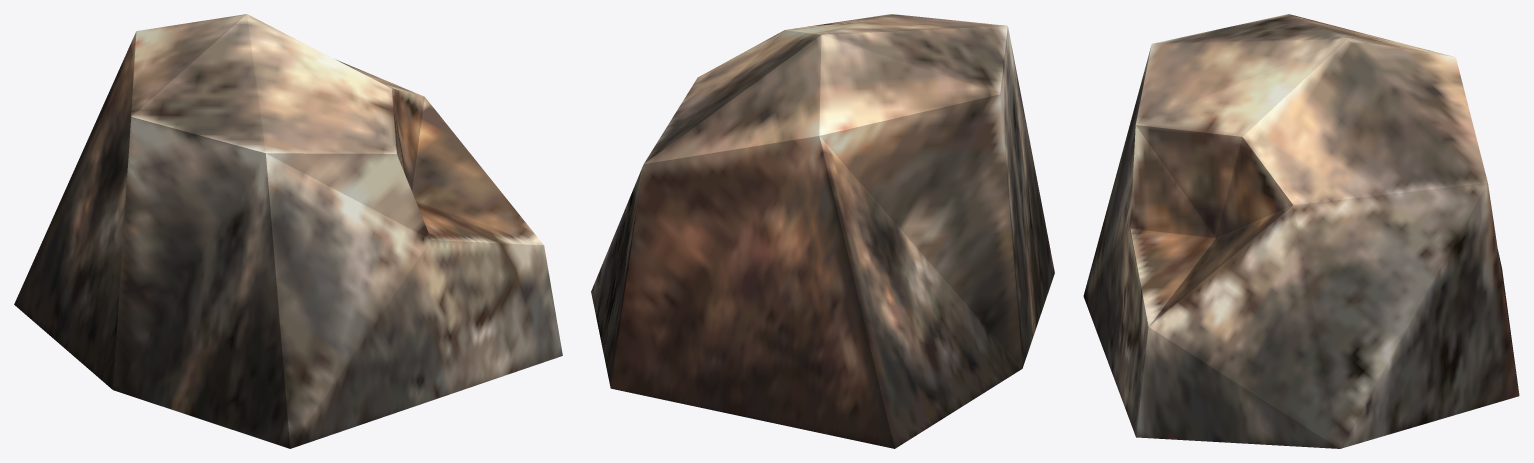
3 renders of one model, left to right at view 1: azimuth 30°, elevation 25°; view 2: azimuth 150°, elevation 25°; view 3: azimuth 270°, elevation 25°, orthographic. The views are drawn at different scales.
Visible parts, largest first — view 1: Stone; view 2: Stone; view 3: Stone.
Boxes of the visible parts, <box> form: Stone: <box>14,14,562,448</box>; Stone: <box>591,14,1054,448</box>; Stone: <box>1083,14,1519,448</box>.
Size of the model in its own units: 38.66 by 29.06 by 38.14.
1 material, 1 textured.
